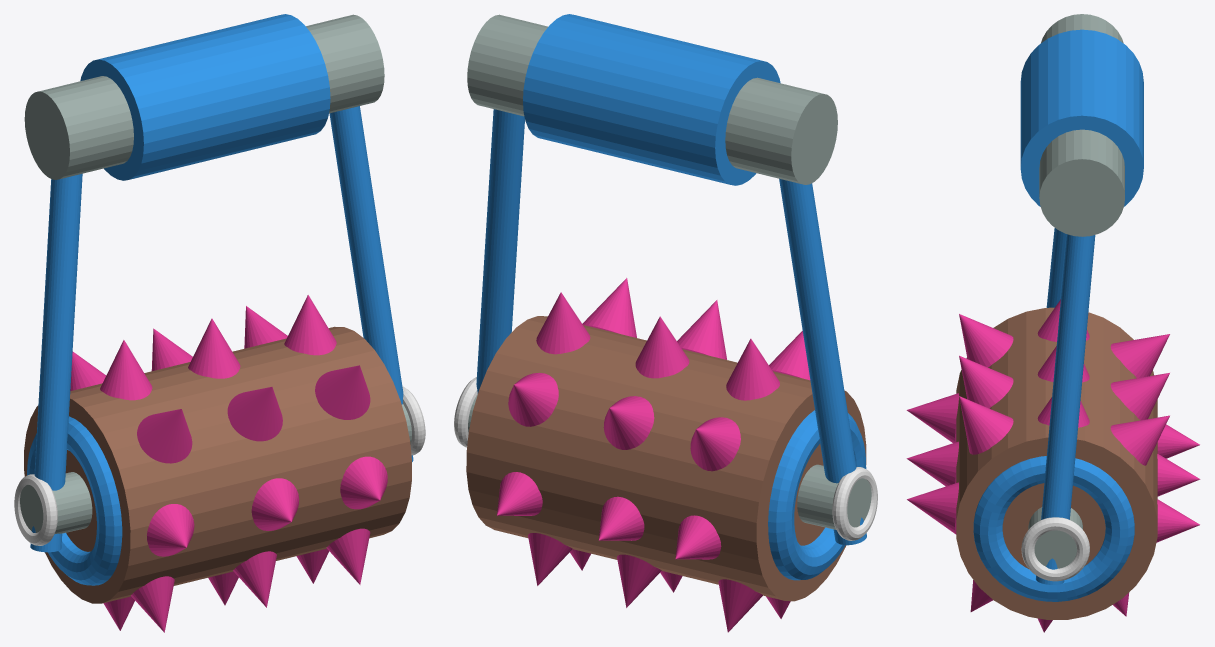
File: right left hitter.fbx
The picture shows the model from 3 angles, left to right: view 1: azimuth 30°, elevation 25°; view 2: azimuth 150°, elevation 25°; view 3: azimuth 270°, elevation 25°; orthographic projection. The views are drawn at different scales.
Parts seen in each view (by area): view 1: Cylinder, Cylinder.004, Cylinder.003, Cylinder.001, Cylinder.002, Torus.001, Cylinder.006, Cone.024, Cone.022, Cone.023, Cone.014, Cone.012 (+14 smaller); view 2: Cylinder, Cylinder.004, Cylinder.003, Cylinder.001, Cylinder.002, Torus.001, Cylinder.006, Cone.019, Cone.021, Cone.020, Cone.015, Cone.016 (+12 smaller); view 3: Cylinder, Cylinder.004, Torus, Cylinder.003, Cylinder.002, Torus.002, Cone.024, Cone.022, Cone.023, Cone.021, Cone.020, Cylinder.005 (+11 smaller).
Part boxes in pixels (left/top/right/bottom): Cylinder: left=24, top=326, right=411, bottom=603; Cylinder.004: left=80, top=14, right=330, bottom=180; Cylinder.003: left=24, top=14, right=384, bottom=179; Cylinder.001: left=30, top=173, right=82, bottom=552; Cylinder.002: left=329, top=106, right=413, bottom=461; Torus.001: left=27, top=416, right=122, bottom=585; Cylinder.006: left=20, top=472, right=92, bottom=534; Cone.024: left=315, top=365, right=370, bottom=419; Cone.022: left=137, top=409, right=192, bottom=463; Cone.023: left=227, top=387, right=282, bottom=441; Cone.014: left=340, top=456, right=387, bottom=509; Cone.012: left=147, top=504, right=194, bottom=556; Cylinder: left=466, top=316, right=866, bottom=601; Cylinder.004: left=523, top=14, right=780, bottom=185; Cylinder.003: left=467, top=14, right=837, bottom=184; Cylinder.001: left=779, top=178, right=866, bottom=545; Cylinder.002: left=476, top=109, right=524, bottom=393; Torus.001: left=768, top=410, right=866, bottom=580; Cylinder.006: left=797, top=464, right=871, bottom=529; Cone.019: left=690, top=417, right=740, bottom=471; Cone.021: left=508, top=372, right=558, bottom=426; Cone.020: left=603, top=396, right=654, bottom=449; Cone.015: left=635, top=316, right=689, bottom=378; Cone.016: left=726, top=338, right=779, bottom=400; Cylinder: left=956, top=307, right=1157, bottom=619; Cylinder.004: left=1020, top=29, right=1143, bottom=206; Torus: left=973, top=456, right=1134, bottom=601; Cylinder.003: left=1039, top=14, right=1124, bottom=236; Cylinder.002: left=1036, top=234, right=1095, bottom=584; Torus.002: left=1021, top=517, right=1089, bottom=581; Cone.024: left=959, top=396, right=1013, bottom=454; Cone.022: left=959, top=314, right=1013, bottom=367; Cone.023: left=959, top=355, right=1013, bottom=408; Cone.021: left=1110, top=415, right=1169, bottom=465; Cone.020: left=1110, top=373, right=1169, bottom=420; Cylinder.005: left=1028, top=507, right=1082, bottom=568.
Bounding box in the file's own units: 1526 × 2088 × 1072.
